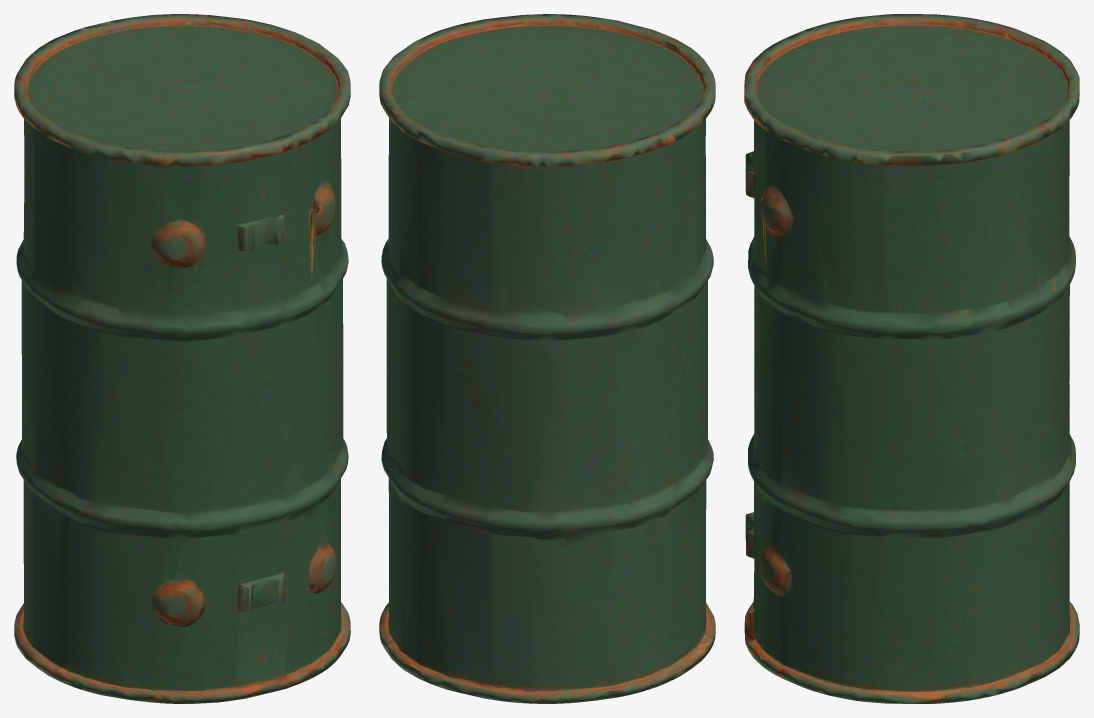
Rendered from barrel.glb.
The picture shows the model from 3 angles, left to right: view 1: azimuth 30°, elevation 25°; view 2: azimuth 150°, elevation 25°; view 3: azimuth 270°, elevation 25°; orthographic projection.
Bounding box in the file's own units: 1.05 × 1.9 × 1.05.
Materials: 1 (1 with a texture image).
